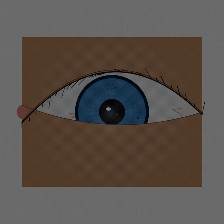pterygium_lesion: (140, 86, 203, 138)
